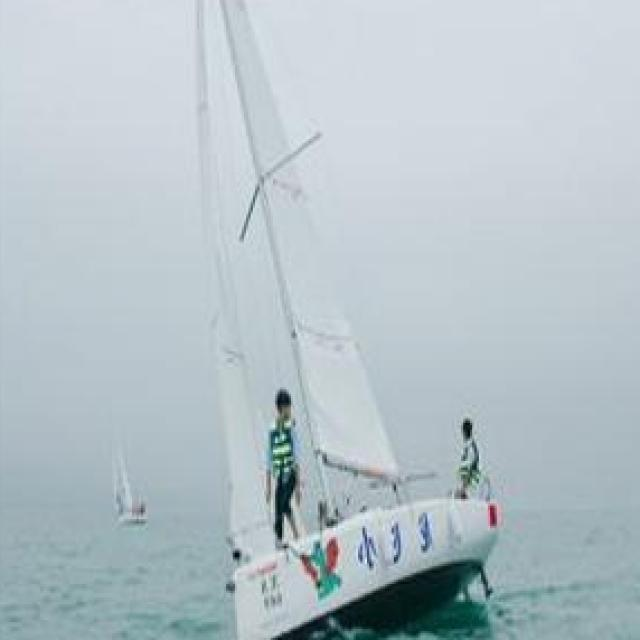sailboat: (197, 0, 508, 640), (108, 434, 155, 528)
